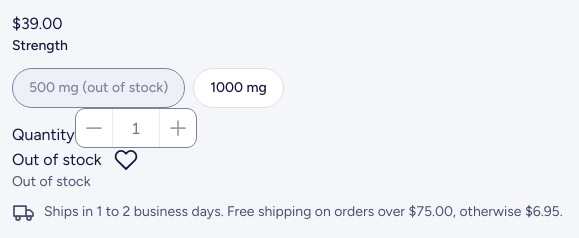
Test: ProductPurchasePanel › disables the button for an out-of-stock variant
The width and height of the screenshot is (579, 238).
Expected: the button "Out of stock" is disabled, [12,148,102,172]
Click the radio button labelled "1000 mg": (239, 88) [193,68,284,108]
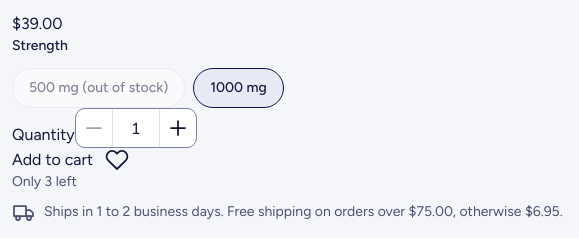
Now the text "Only 3 left" is shown, box [12,173,77,190]
Now the button "Add to cart" is enabled, box [12,148,93,172]
